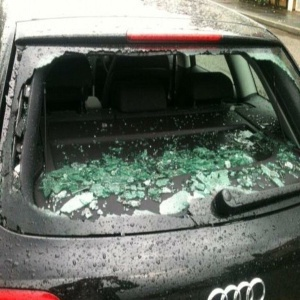rear_windshield_glass: (16, 41, 298, 220)
